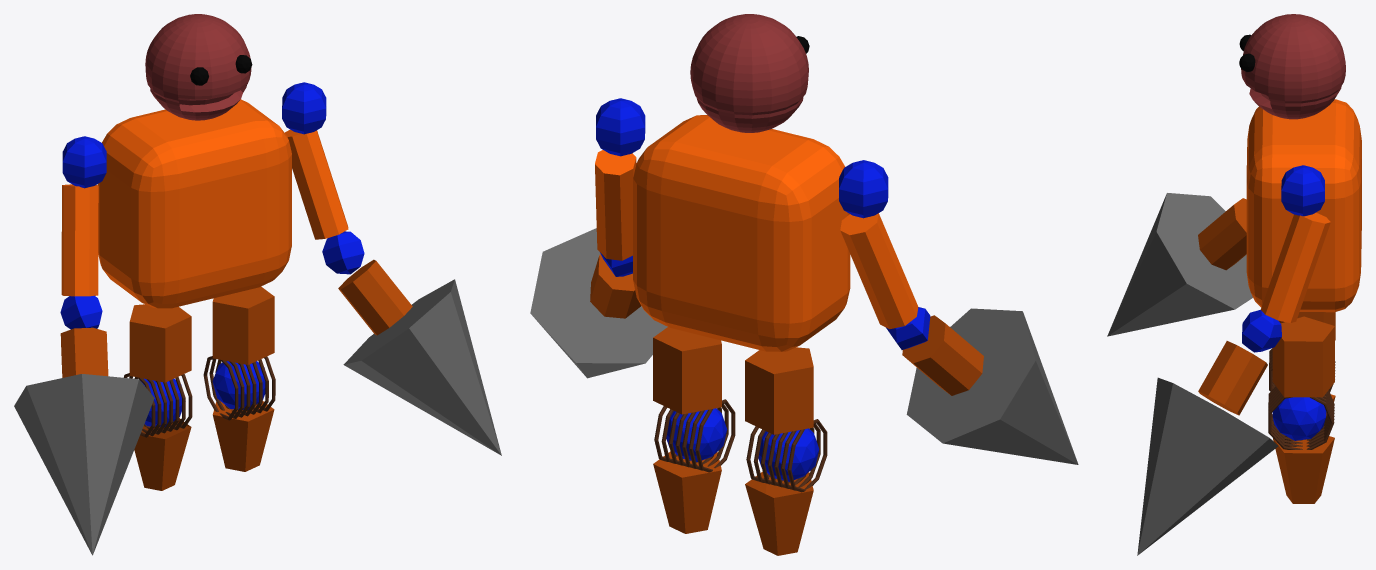
The model's file is scavangerUnit.fbx.
3 renders of one model, left to right at view 1: azimuth 30°, elevation 25°; view 2: azimuth 150°, elevation 25°; view 3: azimuth 270°, elevation 25°, orthographic. The views are drawn at different scales.
Visible parts, largest first — view 1: Cube, Cone, Cone.001, Sphere.002, Cylinder.003, Cylinder.002, Cylinder.004, Cylinder.005, Cylinder.001, Cylinder, Sphere, Sphere.001 (+4 smaller); view 2: Cube, Cone, Sphere.002, Cone.001, Cylinder.002, Cylinder.003, Cylinder.004, Cylinder.005, Cylinder, Sphere.001, Sphere, Cylinder.001 (+5 smaller); view 3: Cube, Cone.001, Cone, Sphere.002, Cylinder.003, Cylinder.005, Cylinder.001, Cylinder, Sphere.001, Icosphere.002, Sphere.004, Torus.006 (+2 smaller).
Boxes of the visible parts, x1,y1,x2,y2 form: Cube: (97, 99, 291, 308); Cone: (14, 374, 154, 555); Cone.001: (343, 279, 501, 455); Sphere.002: (145, 14, 251, 120); Cylinder.003: (212, 286, 274, 471); Cylinder.002: (129, 304, 191, 490); Cylinder.004: (61, 184, 98, 296); Cylinder.005: (285, 129, 348, 239); Cylinder.001: (338, 259, 412, 335); Cylinder: (60, 327, 108, 377); Sphere: (62, 136, 106, 188); Sphere.001: (282, 82, 326, 134); Cube: (633, 115, 850, 351); Cone: (906, 308, 1078, 464); Sphere.002: (690, 14, 808, 132); Cone.001: (530, 228, 667, 378); Cylinder.002: (745, 347, 813, 555); Cylinder.003: (653, 327, 721, 533); Cylinder.004: (840, 213, 918, 329); Cylinder.005: (595, 150, 636, 260); Cylinder: (902, 315, 983, 395); Sphere.001: (596, 98, 645, 156); Sphere: (839, 160, 888, 218); Cylinder.001: (590, 254, 641, 318); Cube: (1246, 99, 1361, 312); Cone.001: (1137, 377, 1278, 555); Cone: (1107, 193, 1252, 336); Sphere.002: (1241, 14, 1345, 119); Cylinder.003: (1272, 316, 1334, 503); Cylinder.005: (1260, 212, 1330, 323); Cylinder.001: (1198, 341, 1267, 415); Cylinder: (1198, 198, 1246, 270); Sphere.001: (1281, 165, 1324, 216); Icosphere.002: (1272, 397, 1326, 440); Sphere.004: (1242, 310, 1281, 352); Torus.006: (1268, 396, 1334, 449).
Bounding box in the file's own units: 428 × 430 × 218.
